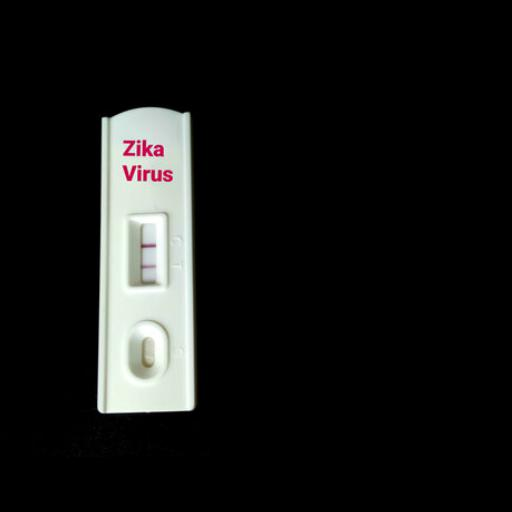Pos: (104, 107, 192, 409)
